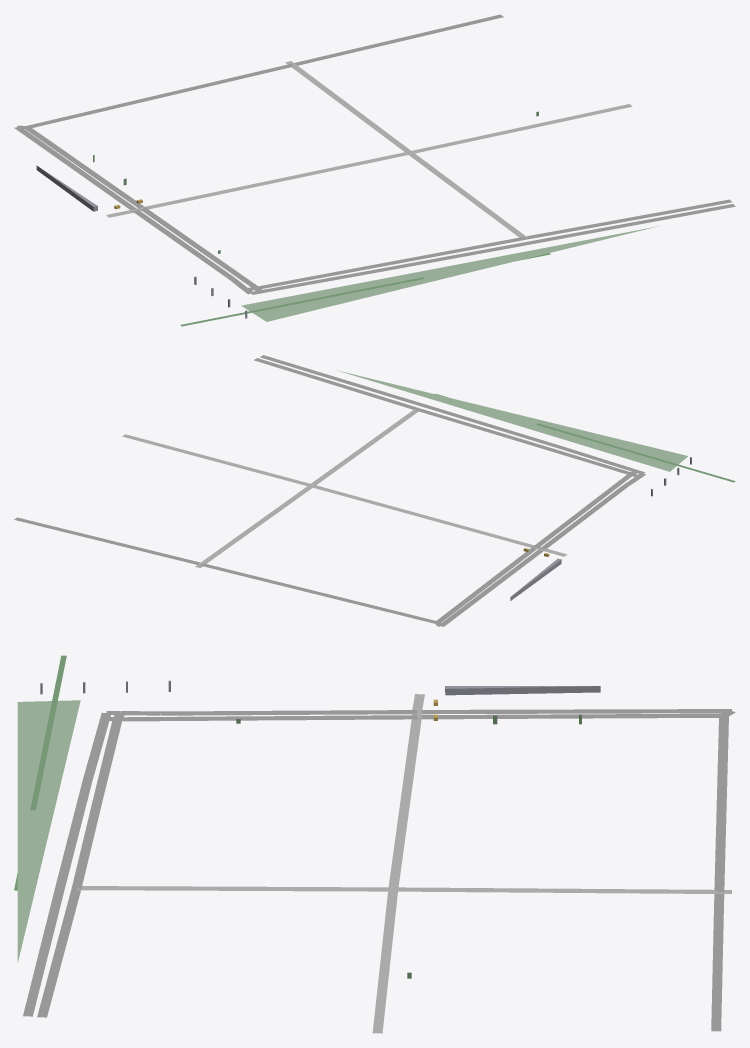
The picture shows the model from 3 angles, top to bottom: view 1: azimuth 30°, elevation 25°; view 2: azimuth 150°, elevation 25°; view 3: azimuth 270°, elevation 25°; orthographic projection. The views are drawn at different scales.
Bounding box in the file's own units: 624 × 10.16 × 507.
